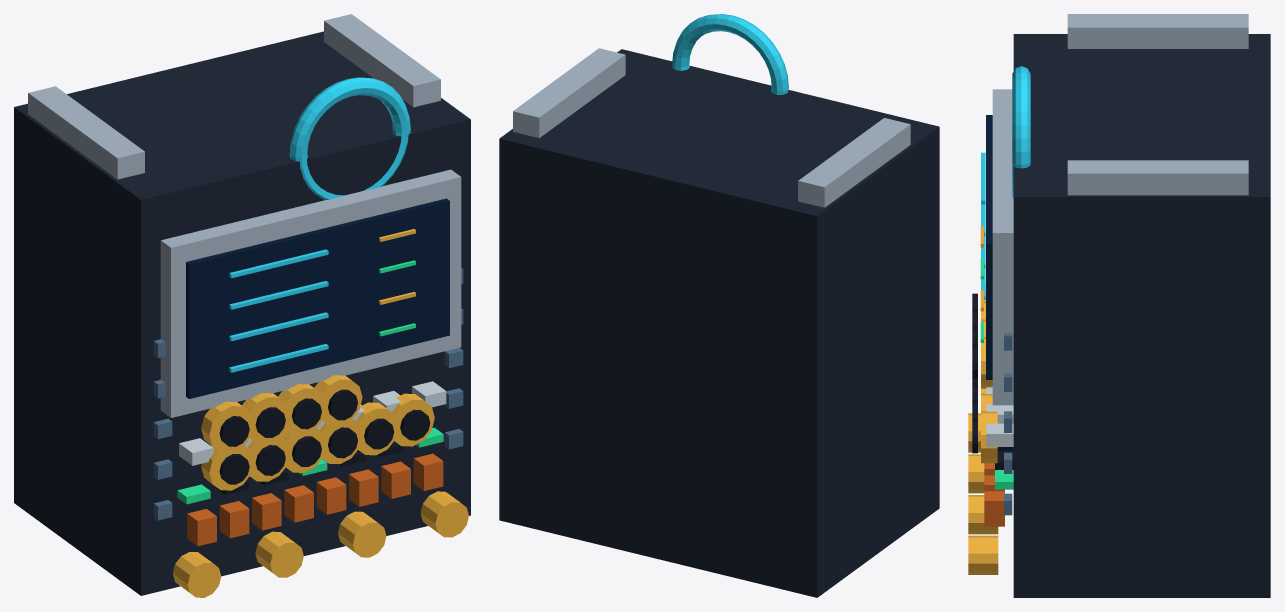
Rendered from 49_L85_SixDegreeFreedomFlightController.fbx.
The picture shows the model from 3 angles, left to right: view 1: azimuth 30°, elevation 25°; view 2: azimuth 150°, elevation 25°; view 3: azimuth 270°, elevation 25°; orthographic projection. The views are drawn at different scales.
Visible parts, largest first — view 1: L85_SixDegreeFreedomFlightController, L85_SixDegreeFreedomFlightController_Part_0010, L85_SixDegreeFreedomFlightController_Part_0023, L85_SixDegreeFreedomFlightController_Part_0021, L85_SixDegreeFreedomFlightController_Part_0011, L85_SixDegreeFreedomFlightController_Part_0027, L85_SixDegreeFreedomFlightController_Part_0025, L85_SixDegreeFreedomFlightController_Part_0029, L85_SixDegreeFreedomFlightController_Part_0019, L85_SixDegreeFreedomFlightController_Part_0013, L85_SixDegreeFreedomFlightController_Part_0015, L85_SixDegreeFreedomFlightController_Part_0017 (+10 smaller); view 2: L85_SixDegreeFreedomFlightController, L85_SixDegreeFreedomFlightController_Part_0010; view 3: L85_SixDegreeFreedomFlightController, L85_SixDegreeFreedomFlightController_Part_0010, L85_SixDegreeFreedomFlightController_Part_0021.
Boxes of the visible parts, x1,y1,x2,y2 form: L85_SixDegreeFreedomFlightController: (14, 14, 470, 597); L85_SixDegreeFreedomFlightController_Part_0010: (289, 77, 410, 199); L85_SixDegreeFreedomFlightController_Part_0023: (201, 401, 253, 452); L85_SixDegreeFreedomFlightController_Part_0021: (391, 393, 434, 446); L85_SixDegreeFreedomFlightController_Part_0011: (201, 444, 253, 490); L85_SixDegreeFreedomFlightController_Part_0027: (278, 384, 326, 434); L85_SixDegreeFreedomFlightController_Part_0025: (242, 393, 290, 443); L85_SixDegreeFreedomFlightController_Part_0029: (314, 375, 362, 425); L85_SixDegreeFreedomFlightController_Part_0019: (355, 402, 397, 455); L85_SixDegreeFreedomFlightController_Part_0013: (247, 435, 288, 481); L85_SixDegreeFreedomFlightController_Part_0015: (283, 426, 326, 472); L85_SixDegreeFreedomFlightController_Part_0017: (320, 418, 361, 464); L85_SixDegreeFreedomFlightController: (499, 48, 939, 597); L85_SixDegreeFreedomFlightController_Part_0010: (672, 14, 788, 94); L85_SixDegreeFreedomFlightController: (968, 14, 1270, 597); L85_SixDegreeFreedomFlightController_Part_0010: (1012, 66, 1030, 198); L85_SixDegreeFreedomFlightController_Part_0021: (981, 411, 997, 463).
Bounding box in the file's own units: 95.88 × 128 × 75.2.
